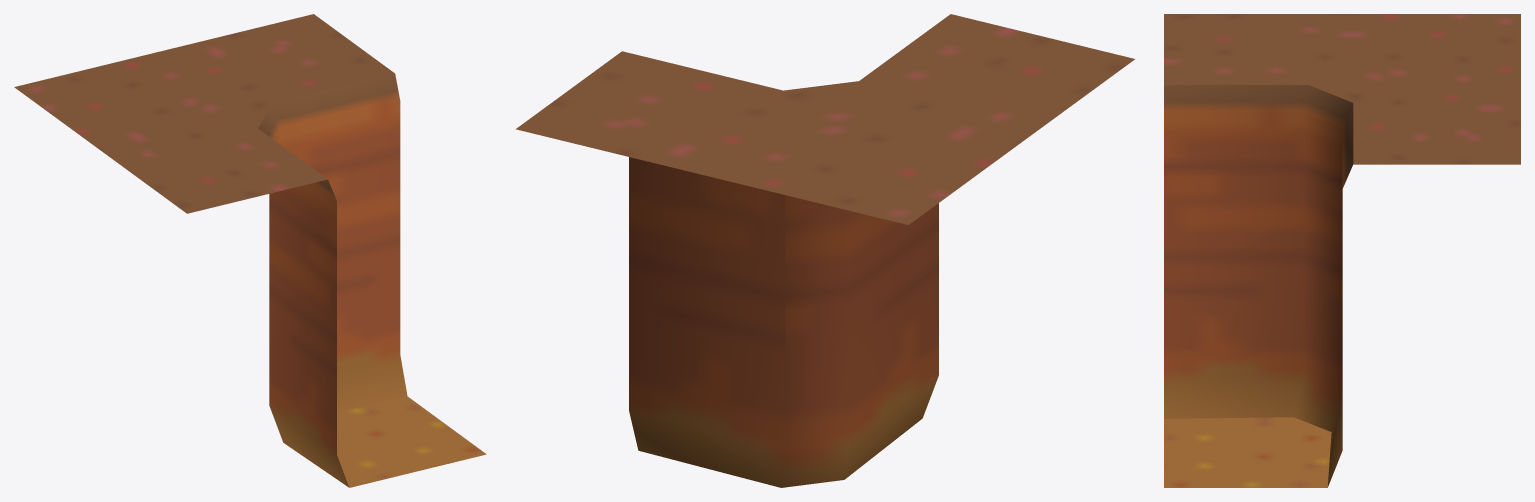
Rendered from canion_inner_corner_v01.fbx.
The picture shows the model from 3 angles, left to right: view 1: azimuth 30°, elevation 25°; view 2: azimuth 150°, elevation 25°; view 3: azimuth 270°, elevation 25°; orthographic projection. The views are drawn at different scales.
Parts seen in each view (by area): view 1: canion_inner_corner_v01; view 2: canion_inner_corner_v01; view 3: canion_inner_corner_v01.
Part boxes in pixels (left/top/right/bottom): canion_inner_corner_v01: left=14, top=14, right=486, bottom=487; canion_inner_corner_v01: left=516, top=14, right=1134, bottom=487; canion_inner_corner_v01: left=1164, top=14, right=1520, bottom=487.
Bounding box in the file's own units: 400 × 400 × 400.
